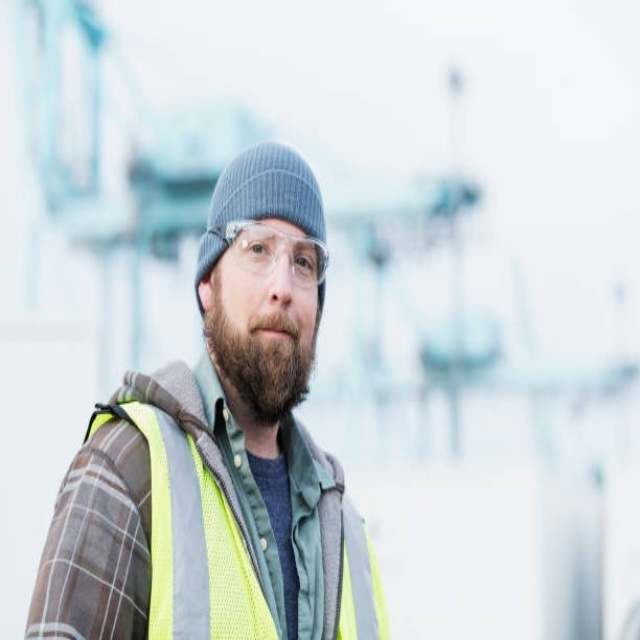Gafas: (212, 221, 330, 284)
Sin_mascara: (244, 307, 303, 386)
